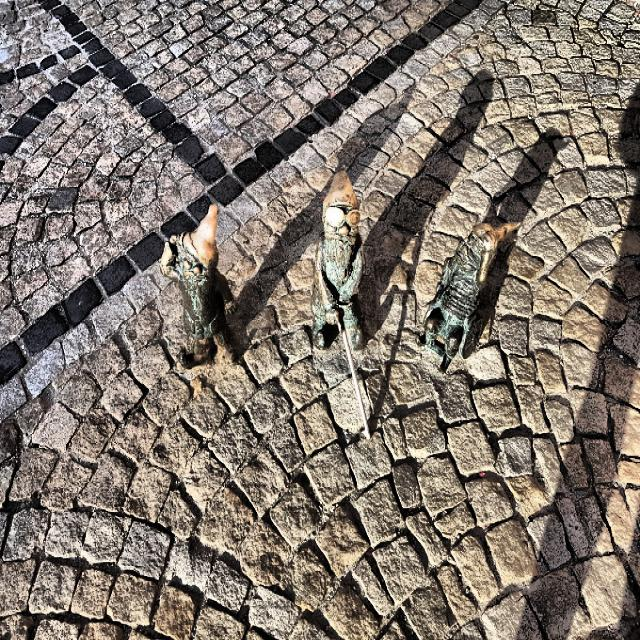Gluchak: (160, 205, 236, 367)
Slepak: (311, 172, 370, 438)
W-Skers: (421, 223, 518, 371)
